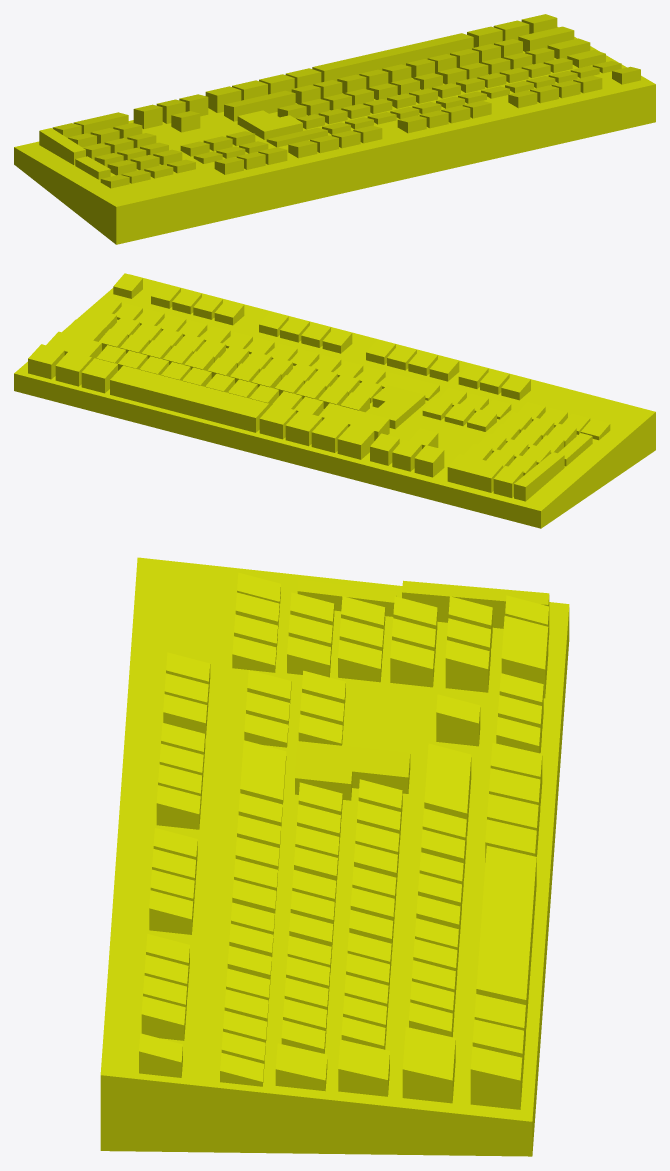
The model's file is Keyboard.fbx.
3 views of the same model, one above another, from view 1: azimuth 30°, elevation 25°; view 2: azimuth 150°, elevation 25°; view 3: azimuth 270°, elevation 25° (orthographic). The views are drawn at different scales.
Parts seen in each view (by area): view 1: Keyboard; view 2: Keyboard; view 3: Keyboard.
Boxes of the visible parts, bbox=[...] form: Keyboard: bbox=[14, 14, 655, 244]; Keyboard: bbox=[14, 273, 655, 528]; Keyboard: bbox=[100, 557, 569, 1156].
Bounding box in the file's own units: 0.7143 × 0.0601 × 0.2705.
